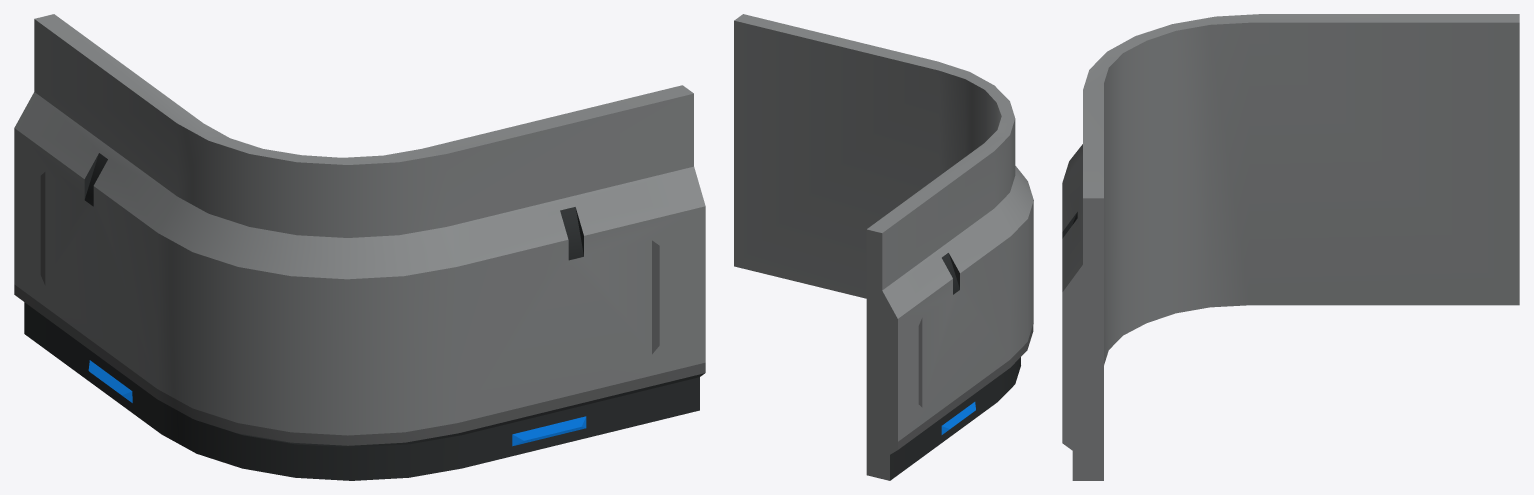
The model's file is Wall_type_B_040.glb.
The picture shows the model from 3 angles, left to right: view 1: azimuth 30°, elevation 25°; view 2: azimuth 150°, elevation 25°; view 3: azimuth 270°, elevation 25°; orthographic projection. The views are drawn at different scales.
Visible parts, largest first — view 1: Wall_type_B_040; view 2: Wall_type_B_040; view 3: Wall_type_B_040.
Boxes of the visible parts, box(x1,y1,x2,y2) form: Wall_type_B_040: box(14, 14, 705, 480); Wall_type_B_040: box(734, 14, 1033, 480); Wall_type_B_040: box(1062, 14, 1519, 480).
Bounding box in the file's own units: 2.2 × 1.5 × 2.2.
Materials: 2 (2 with a texture image).
